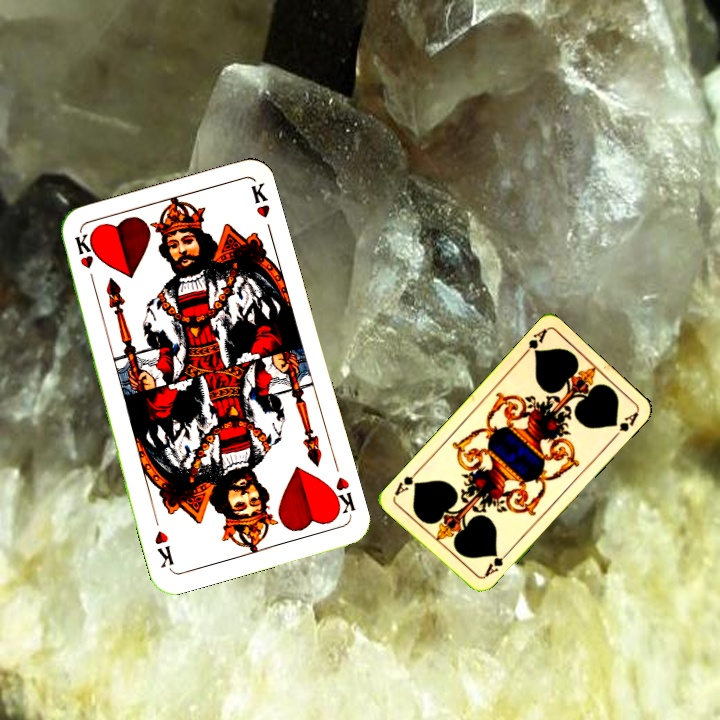GA: (518, 325, 549, 360), (480, 548, 511, 580)
HK: (70, 230, 98, 290), (324, 473, 358, 520)
